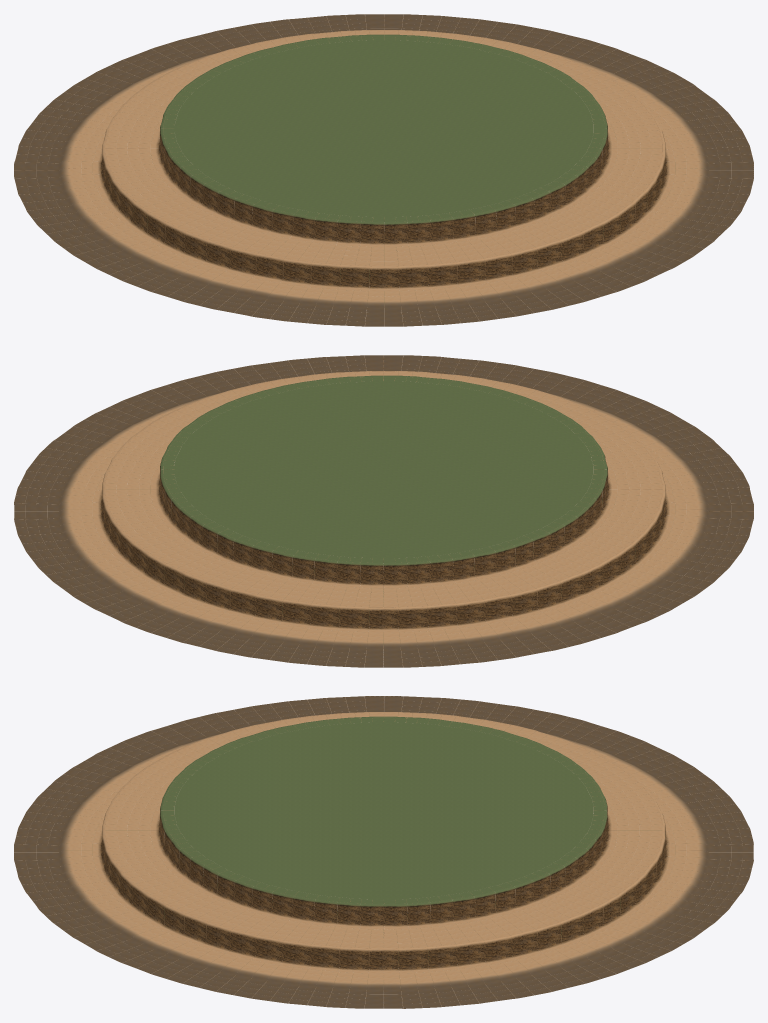
The model's file is SM_TI_Island_0.gltf.
3 renders of one model, top to bottom at view 1: azimuth 30°, elevation 25°; view 2: azimuth 150°, elevation 25°; view 3: azimuth 270°, elevation 25°, orthographic.
Visible parts, largest first — view 1: SM_TI_Island_0; view 2: SM_TI_Island_0; view 3: SM_TI_Island_0.
Boxes of the visible parts, box(x1,y1,x2,y2) form: SM_TI_Island_0: box(14, 14, 753, 326); SM_TI_Island_0: box(14, 355, 753, 667); SM_TI_Island_0: box(14, 696, 753, 1008).
Bounding box in the file's own units: 528 × 32.84 × 528.
2 materials, 2 textured.
